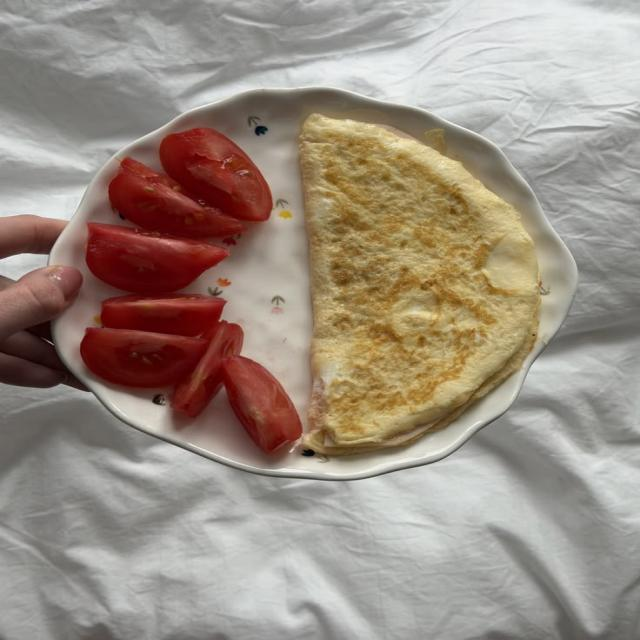omelette: (300, 115, 539, 454)
